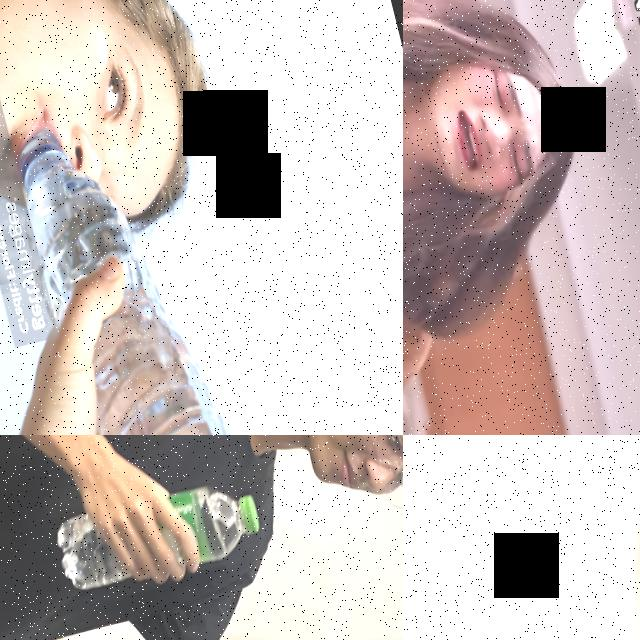bottle: (0, 95, 277, 435), (45, 467, 272, 615)
cup: (403, 471, 640, 640)
